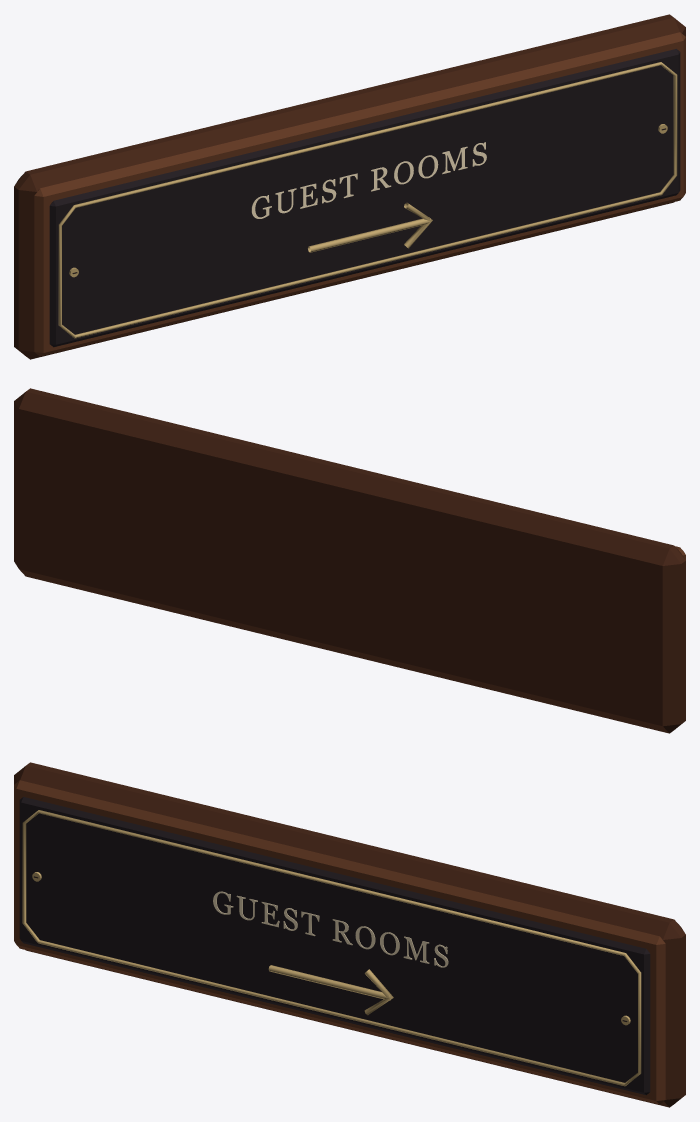
Rendered from DirectionRight.glb.
The picture shows the model from 3 angles, top to bottom: view 1: azimuth 30°, elevation 25°; view 2: azimuth 150°, elevation 25°; view 3: azimuth 330°, elevation 25°; orthographic projection.
Visible parts, largest first — view 1: EnamelFace.017, OakMoulding.017, BevelledOak.017, GoldCartouche.017, Lettering_GUEST ROOMS.002, DirectionalArrow.001; view 2: BevelledOak.017; view 3: EnamelFace.017, OakMoulding.017, BevelledOak.017, GoldCartouche.017, Lettering_GUEST ROOMS.002, DirectionalArrow.001.
Boxes of the visible parts, x1,y1,x2,y2 form: EnamelFace.017: [49, 49, 680, 347]; OakMoulding.017: [34, 32, 685, 356]; BevelledOak.017: [14, 14, 685, 359]; GoldCartouche.017: [58, 62, 677, 338]; Lettering_GUEST ROOMS.002: [251, 142, 486, 218]; DirectionalArrow.001: [308, 217, 430, 252]; BevelledOak.017: [14, 388, 685, 733]; EnamelFace.017: [19, 797, 650, 1095]; OakMoulding.017: [14, 780, 665, 1104]; BevelledOak.017: [14, 762, 685, 1107]; GoldCartouche.017: [22, 810, 641, 1086]; Lettering_GUEST ROOMS.002: [213, 891, 448, 967]; DirectionalArrow.001: [268, 965, 390, 1000].
Size of the model in its own units: 5.1 by 1.35 by 0.402.
